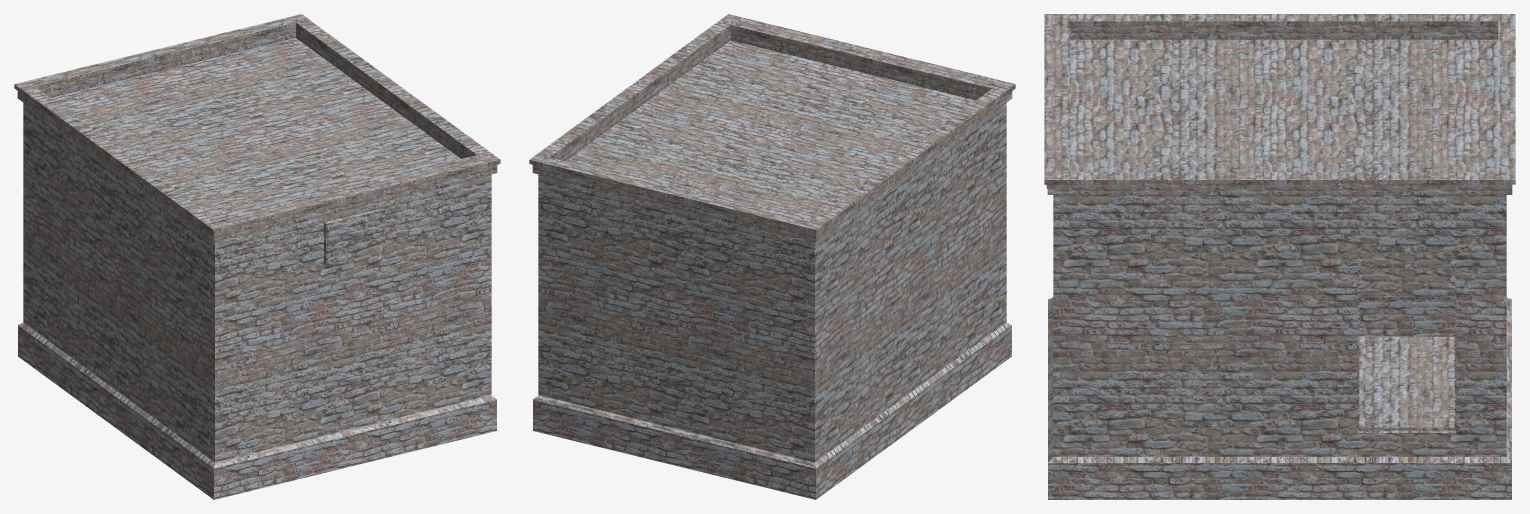
The model's file is RooftopEntranceBuilding(Bricks).obj.
3 views of the same model, side by side, from view 1: azimuth 30°, elevation 25°; view 2: azimuth 150°, elevation 25°; view 3: azimuth 270°, elevation 25° (orthographic). The views are drawn at different scales.
Visible parts, largest first — view 1: EntranceBuild; view 2: EntranceBuild; view 3: EntranceBuild.
Boxes of the visible parts, box(x1,y1,x2,y2) form: EntranceBuild: box(14, 14, 500, 499); EntranceBuild: box(529, 14, 1015, 499); EntranceBuild: box(1044, 14, 1515, 499).
Size of the model in its own units: 2.03 by 1.83 by 2.44.
